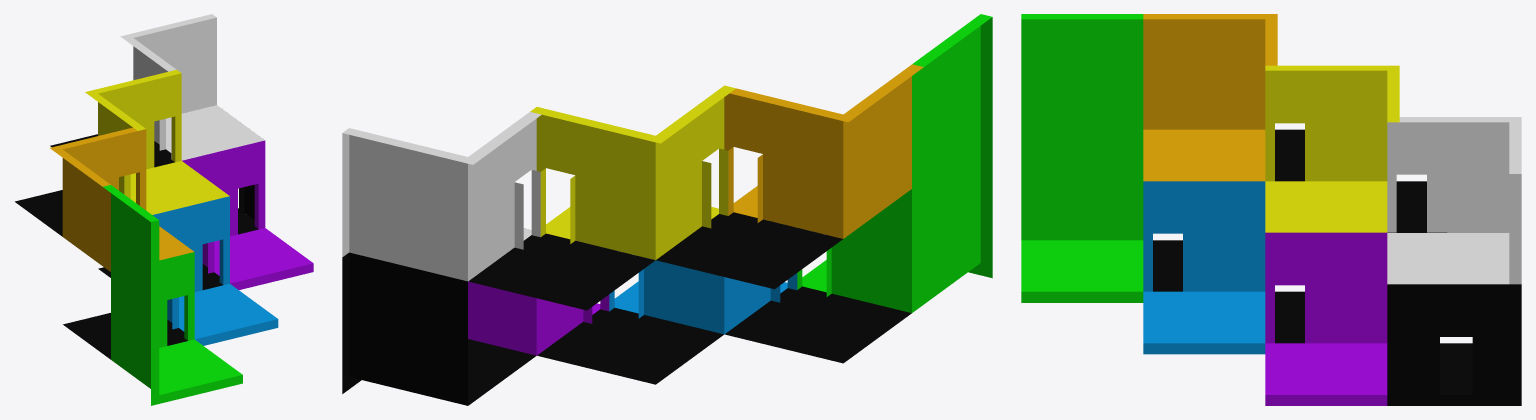
Rendered from house_7.fbx.
The picture shows the model from 3 angles, left to right: view 1: azimuth 30°, elevation 25°; view 2: azimuth 150°, elevation 25°; view 3: azimuth 270°, elevation 25°; orthographic projection. The views are drawn at different scales.
Parts seen in each view (by area): view 1: house_7; view 2: house_7; view 3: house_7.
Part boxes in pixels (box(x1,y1,x2,y2)): house_7: box(15, 14, 313, 405); house_7: box(342, 14, 992, 405); house_7: box(1021, 14, 1521, 405).
Bounding box in the file's own units: 3.1 × 2.1 × 4.1.
